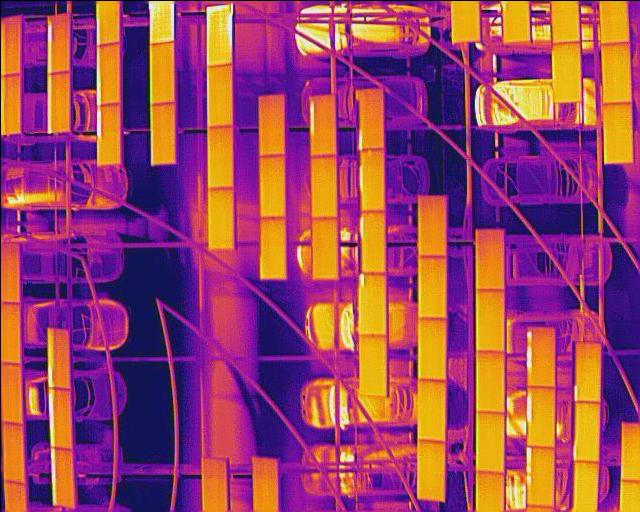Cell: (357, 272, 385, 333)
No-Anomaly: (603, 103, 633, 164), (416, 256, 445, 319), (257, 154, 285, 219), (475, 412, 505, 471), (475, 350, 504, 411), (417, 317, 445, 380), (206, 63, 234, 126), (602, 40, 629, 105), (357, 332, 384, 396), (476, 289, 504, 350), (417, 195, 445, 256), (417, 378, 444, 441), (207, 187, 234, 250), (552, 46, 582, 102), (259, 216, 286, 278), (206, 126, 233, 186), (417, 438, 443, 500), (250, 455, 278, 512), (311, 217, 337, 278), (258, 94, 284, 155), (310, 154, 335, 217), (475, 231, 502, 289), (150, 103, 175, 164), (149, 38, 173, 101), (576, 340, 600, 401), (0, 361, 22, 425), (202, 456, 227, 512), (0, 425, 24, 482), (575, 401, 598, 460), (572, 462, 597, 512)
Unclassified: (525, 327, 554, 386), (204, 4, 232, 65), (526, 387, 554, 447), (525, 445, 553, 504), (308, 94, 335, 155), (44, 15, 72, 73), (48, 447, 74, 508), (358, 148, 383, 209), (96, 104, 120, 167), (46, 70, 70, 133), (96, 39, 119, 104), (47, 327, 70, 390), (358, 213, 382, 273), (359, 89, 383, 148), (48, 387, 71, 448)
